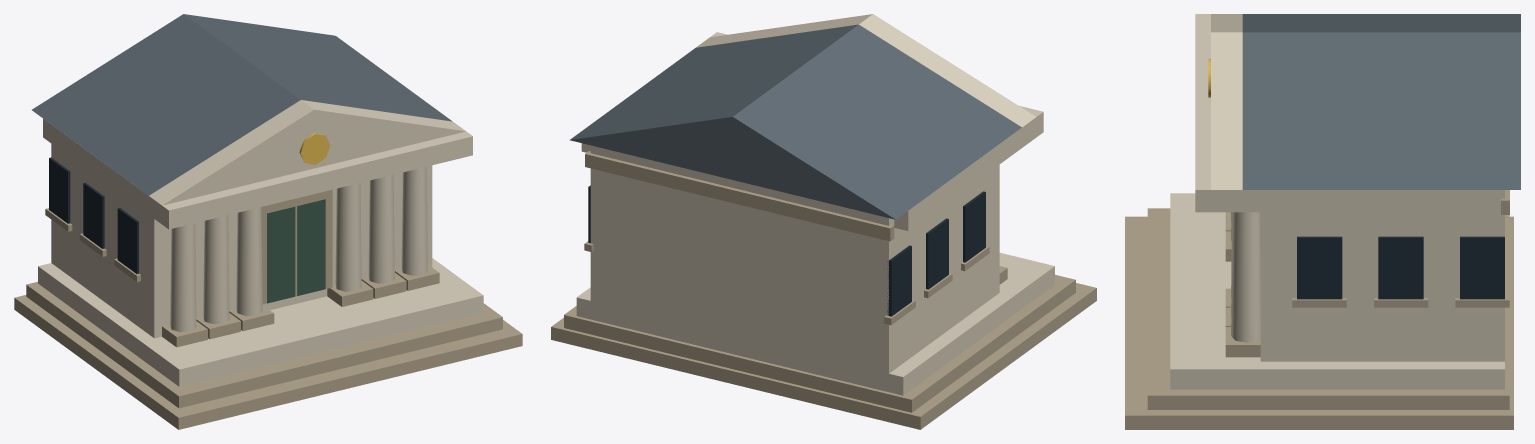
File: low-poly-bank.glb
3 views of the same model, side by side, from view 1: azimuth 30°, elevation 25°; view 2: azimuth 150°, elevation 25°; view 3: azimuth 270°, elevation 25° (orthographic). The views are drawn at different scales.
Parts seen in each view (by area): view 1: roof, plinth, body, pediment, step1, step2, entablature, column1, column2, column4, column5, column3 (+14 smaller); view 2: body, roof, plinth, step1, step2, backCornice, pediment, entablature, windowL1, windowL2, windowL3; view 3: roof, body, plinth, step1, step2, entablature, pediment, column6, windowR2, windowR3, windowR1, colbase6 (+3 smaller).
Boxes of the visible parts, left/top/right/bottom form: roof: left=32, top=14, right=452, bottom=195; plinth: left=38, top=258, right=483, bottom=386; body: left=51, top=144, right=432, bottom=338; pediment: left=149, top=100, right=465, bottom=205; step1: left=14, top=295, right=522, bottom=429; step2: left=26, top=281, right=502, bottom=408; entablature: left=43, top=118, right=472, bottom=229; column1: left=170, top=223, right=196, bottom=332; column2: left=203, top=215, right=229, bottom=323; column4: left=335, top=183, right=361, bottom=291; column5: left=368, top=175, right=394, bottom=283; column3: left=236, top=207, right=262, bottom=315; body: left=590, top=145, right=999, bottom=373; roof: left=569, top=24, right=1021, bottom=219; plinth: left=576, top=252, right=1054, bottom=395; step1: left=551, top=283, right=1096, bottom=429; step2: left=564, top=274, right=1075, bottom=412; backCornice: left=585, top=151, right=894, bottom=241; pediment: left=696, top=14, right=1035, bottom=127; entablature: left=581, top=32, right=1043, bottom=231; windowL1: left=887, top=245, right=911, bottom=316; windowL2: left=926, top=218, right=948, bottom=289; windowL3: left=963, top=191, right=985, bottom=262; roof: left=1242, top=14, right=1520, bottom=189; body: left=1260, top=190, right=1504, bottom=361; plinth: left=1170, top=193, right=1504, bottom=389; step1: left=1125, top=216, right=1513, bottom=429; step2: left=1147, top=208, right=1509, bottom=409; entablature: left=1195, top=14, right=1493, bottom=212; pediment: left=1211, top=14, right=1242, bottom=189; column6: left=1231, top=212, right=1260, bottom=342; windowR2: left=1378, top=236, right=1423, bottom=299; windowR3: left=1297, top=236, right=1342, bottom=299; windowR1: left=1460, top=236, right=1504, bottom=299; colbase6: left=1225, top=327, right=1260, bottom=357.
Size of the model in its own units: 10.4 by 7.28 by 8.75.
